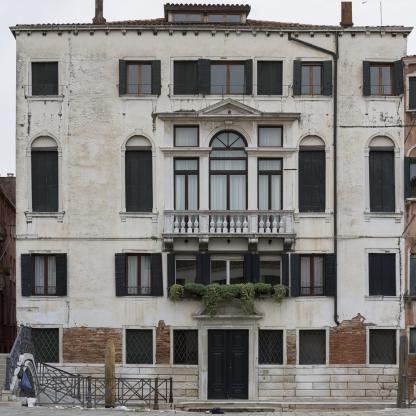Balcony: (161, 210, 297, 238)
Blind: (125, 150, 153, 213), (31, 151, 58, 212), (370, 150, 396, 213), (299, 150, 325, 213), (369, 253, 396, 296), (257, 61, 283, 96), (32, 62, 58, 96), (174, 60, 199, 95), (20, 254, 34, 297), (324, 253, 336, 297), (152, 252, 164, 296), (115, 253, 127, 296), (198, 58, 211, 95), (56, 253, 67, 296), (290, 253, 300, 297), (393, 59, 404, 96), (167, 253, 175, 297), (202, 253, 210, 297), (196, 253, 204, 297), (252, 254, 260, 297), (151, 60, 161, 94), (293, 60, 302, 96), (324, 60, 333, 96), (282, 254, 289, 297), (244, 253, 251, 296), (245, 59, 253, 95), (119, 59, 127, 94), (363, 61, 371, 96)
Building Outline: (8, 0, 414, 401)
Cornice: (156, 97, 302, 122), (191, 297, 266, 318), (205, 57, 252, 61), (364, 58, 399, 62), (122, 57, 156, 61), (295, 57, 329, 61), (170, 57, 203, 61), (254, 57, 287, 61), (30, 58, 61, 62)
Door: (208, 329, 249, 400), (209, 174, 248, 233), (257, 172, 283, 232), (174, 172, 200, 232)
Facade: (16, 30, 405, 400), (299, 254, 326, 297)
Floor: (16, 112, 404, 238), (16, 238, 404, 315), (16, 42, 404, 112), (169, 7, 247, 41)
Floor Slab: (16, 37, 404, 42), (16, 233, 404, 238), (16, 310, 404, 315), (16, 107, 404, 112)
Ground Floor: (16, 315, 404, 401)
Molding: (14, 29, 408, 38)
Roof: (16, 18, 404, 27)
Sill: (119, 212, 159, 223), (293, 212, 333, 223), (364, 212, 403, 223), (25, 212, 65, 222), (204, 95, 253, 100), (292, 95, 332, 101), (25, 95, 64, 101), (120, 94, 159, 100), (363, 95, 402, 101), (294, 296, 331, 302), (364, 295, 401, 301), (27, 296, 64, 301), (121, 296, 158, 301), (168, 95, 204, 100), (253, 95, 288, 100)
Window: (125, 150, 153, 213), (31, 151, 58, 212), (370, 150, 396, 213), (299, 150, 325, 213), (210, 254, 244, 296), (209, 60, 249, 95), (125, 253, 153, 297), (31, 253, 59, 296), (208, 129, 248, 159), (369, 253, 396, 296), (369, 329, 397, 365), (32, 328, 60, 364), (174, 254, 197, 296), (126, 60, 153, 95), (369, 61, 396, 96), (299, 330, 326, 365), (299, 61, 326, 95), (257, 61, 283, 96), (260, 254, 282, 295), (174, 329, 199, 365), (32, 62, 58, 96), (174, 60, 199, 95), (258, 330, 283, 365), (173, 124, 200, 147), (257, 125, 284, 147), (208, 159, 248, 173), (31, 135, 58, 151), (369, 135, 396, 150), (125, 135, 152, 150), (299, 135, 326, 150), (174, 158, 200, 172), (257, 158, 283, 171), (209, 14, 240, 23), (174, 13, 202, 22)
dont: (0, 323, 173, 410)
